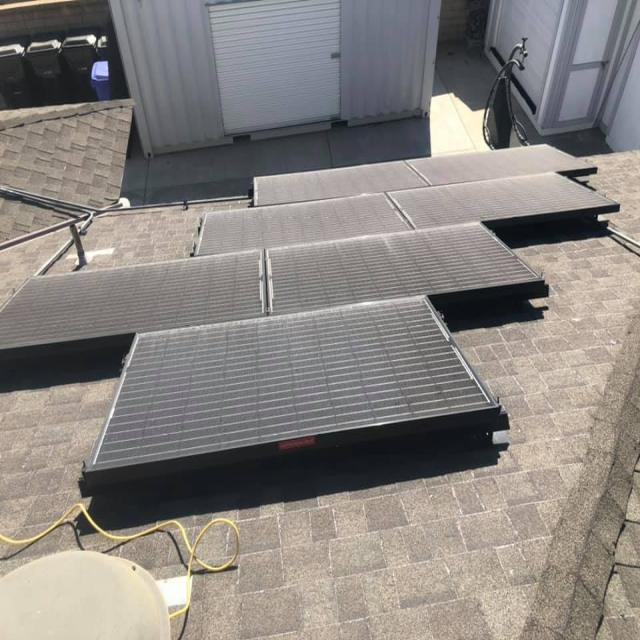dust-solar-panel: (0, 143, 624, 473)
